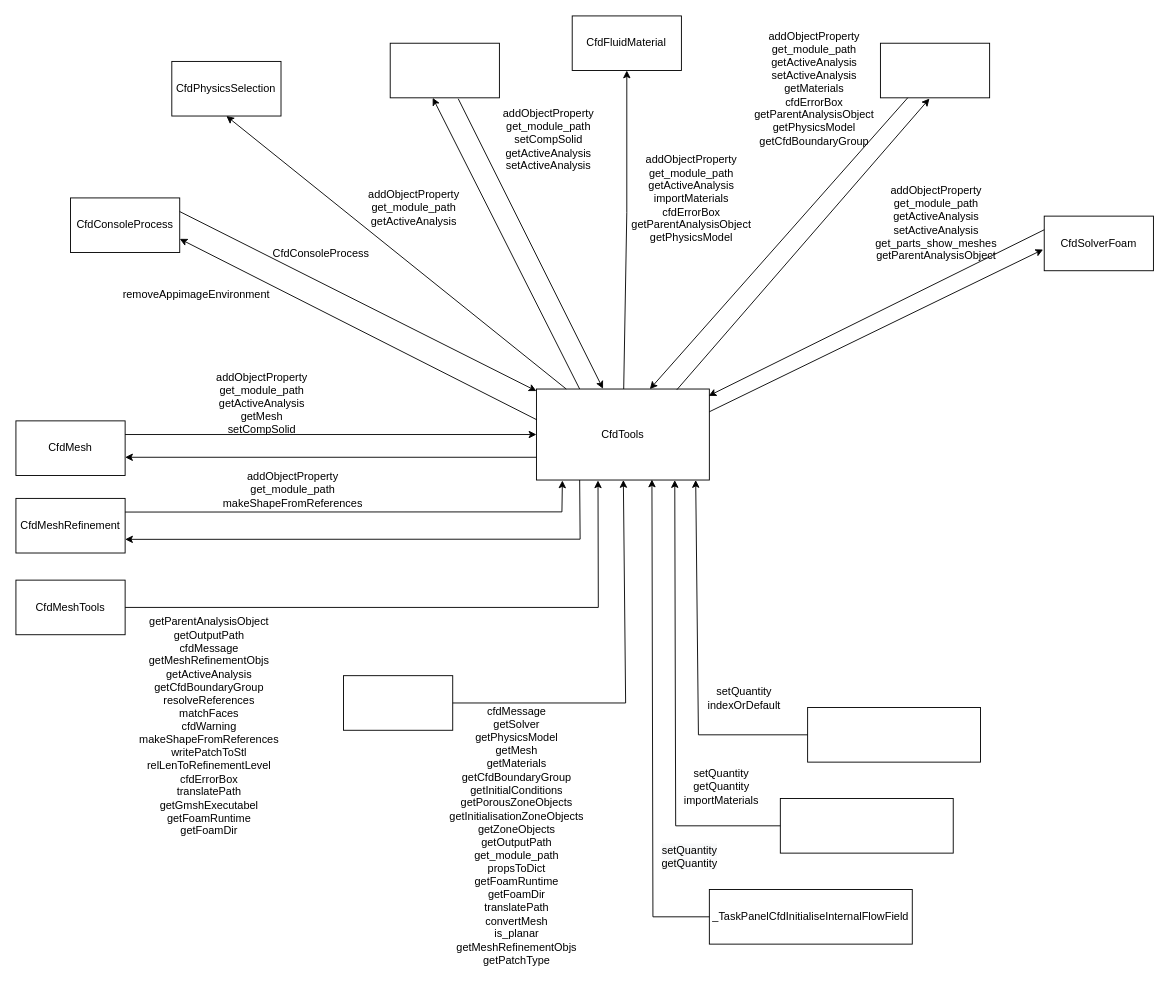
Image size: 1169x982. Some labels were removed from this diagram. Here are the shapes that lost their labels. From the top down, the box of each, then its label:
(389, 42, 499, 98): CfdAnalysis
(880, 42, 990, 98): CfdInitialiseFlowField
(343, 675, 453, 730): CfdCaseWriterFoam
(807, 707, 981, 762): _TaskPanelCfdPhysicsSelection
(779, 798, 953, 853): _TaskPanelCfdFluidProperties
